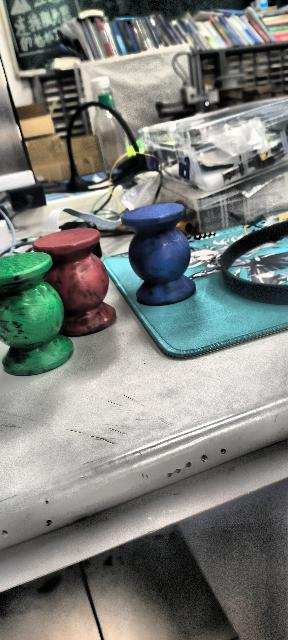blue: (120, 202, 196, 306)
green: (0, 251, 75, 376)
red: (32, 227, 114, 340)
